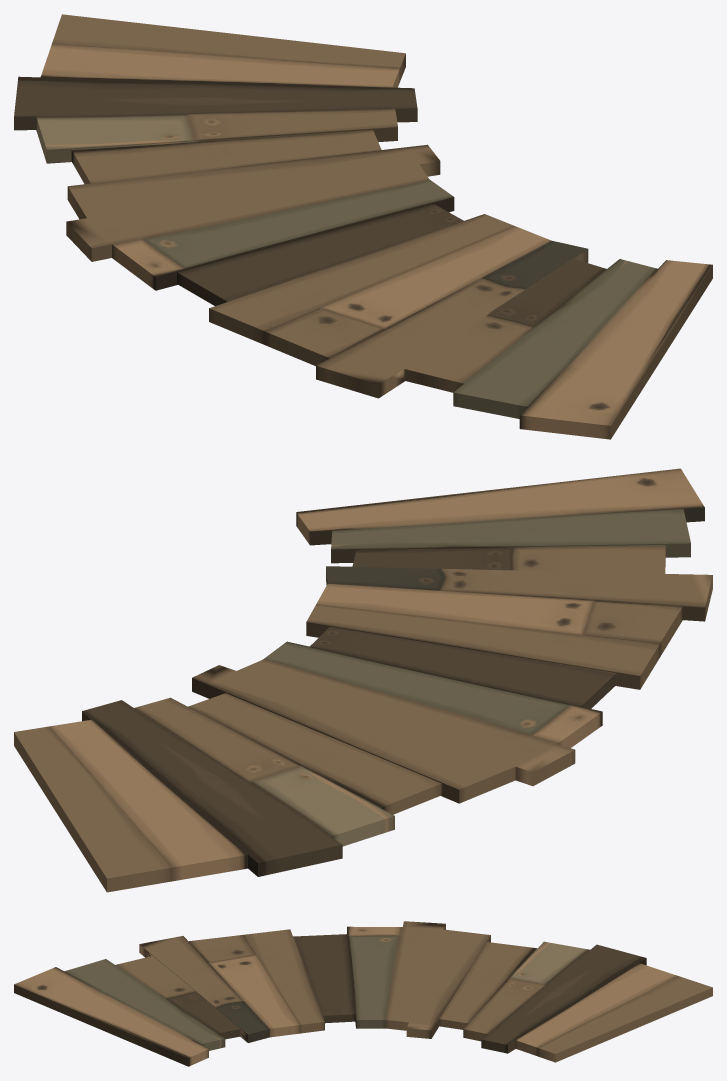
File: SM_Bld_Dock_Round_01.fbx
The picture shows the model from 3 angles, top to bottom: view 1: azimuth 30°, elevation 25°; view 2: azimuth 150°, elevation 25°; view 3: azimuth 270°, elevation 25°; orthographic projection. The views are drawn at different scales.
Visible parts, largest first — view 1: SM_Bld_Dock_Round_01; view 2: SM_Bld_Dock_Round_01; view 3: SM_Bld_Dock_Round_01.
Part boxes in pixels (x1,y1,x2,y2): SM_Bld_Dock_Round_01: [14, 14, 712, 439]; SM_Bld_Dock_Round_01: [14, 468, 712, 892]; SM_Bld_Dock_Round_01: [14, 921, 712, 1066].
Bounding box in the file's own units: 341 × 9.97 × 736.
